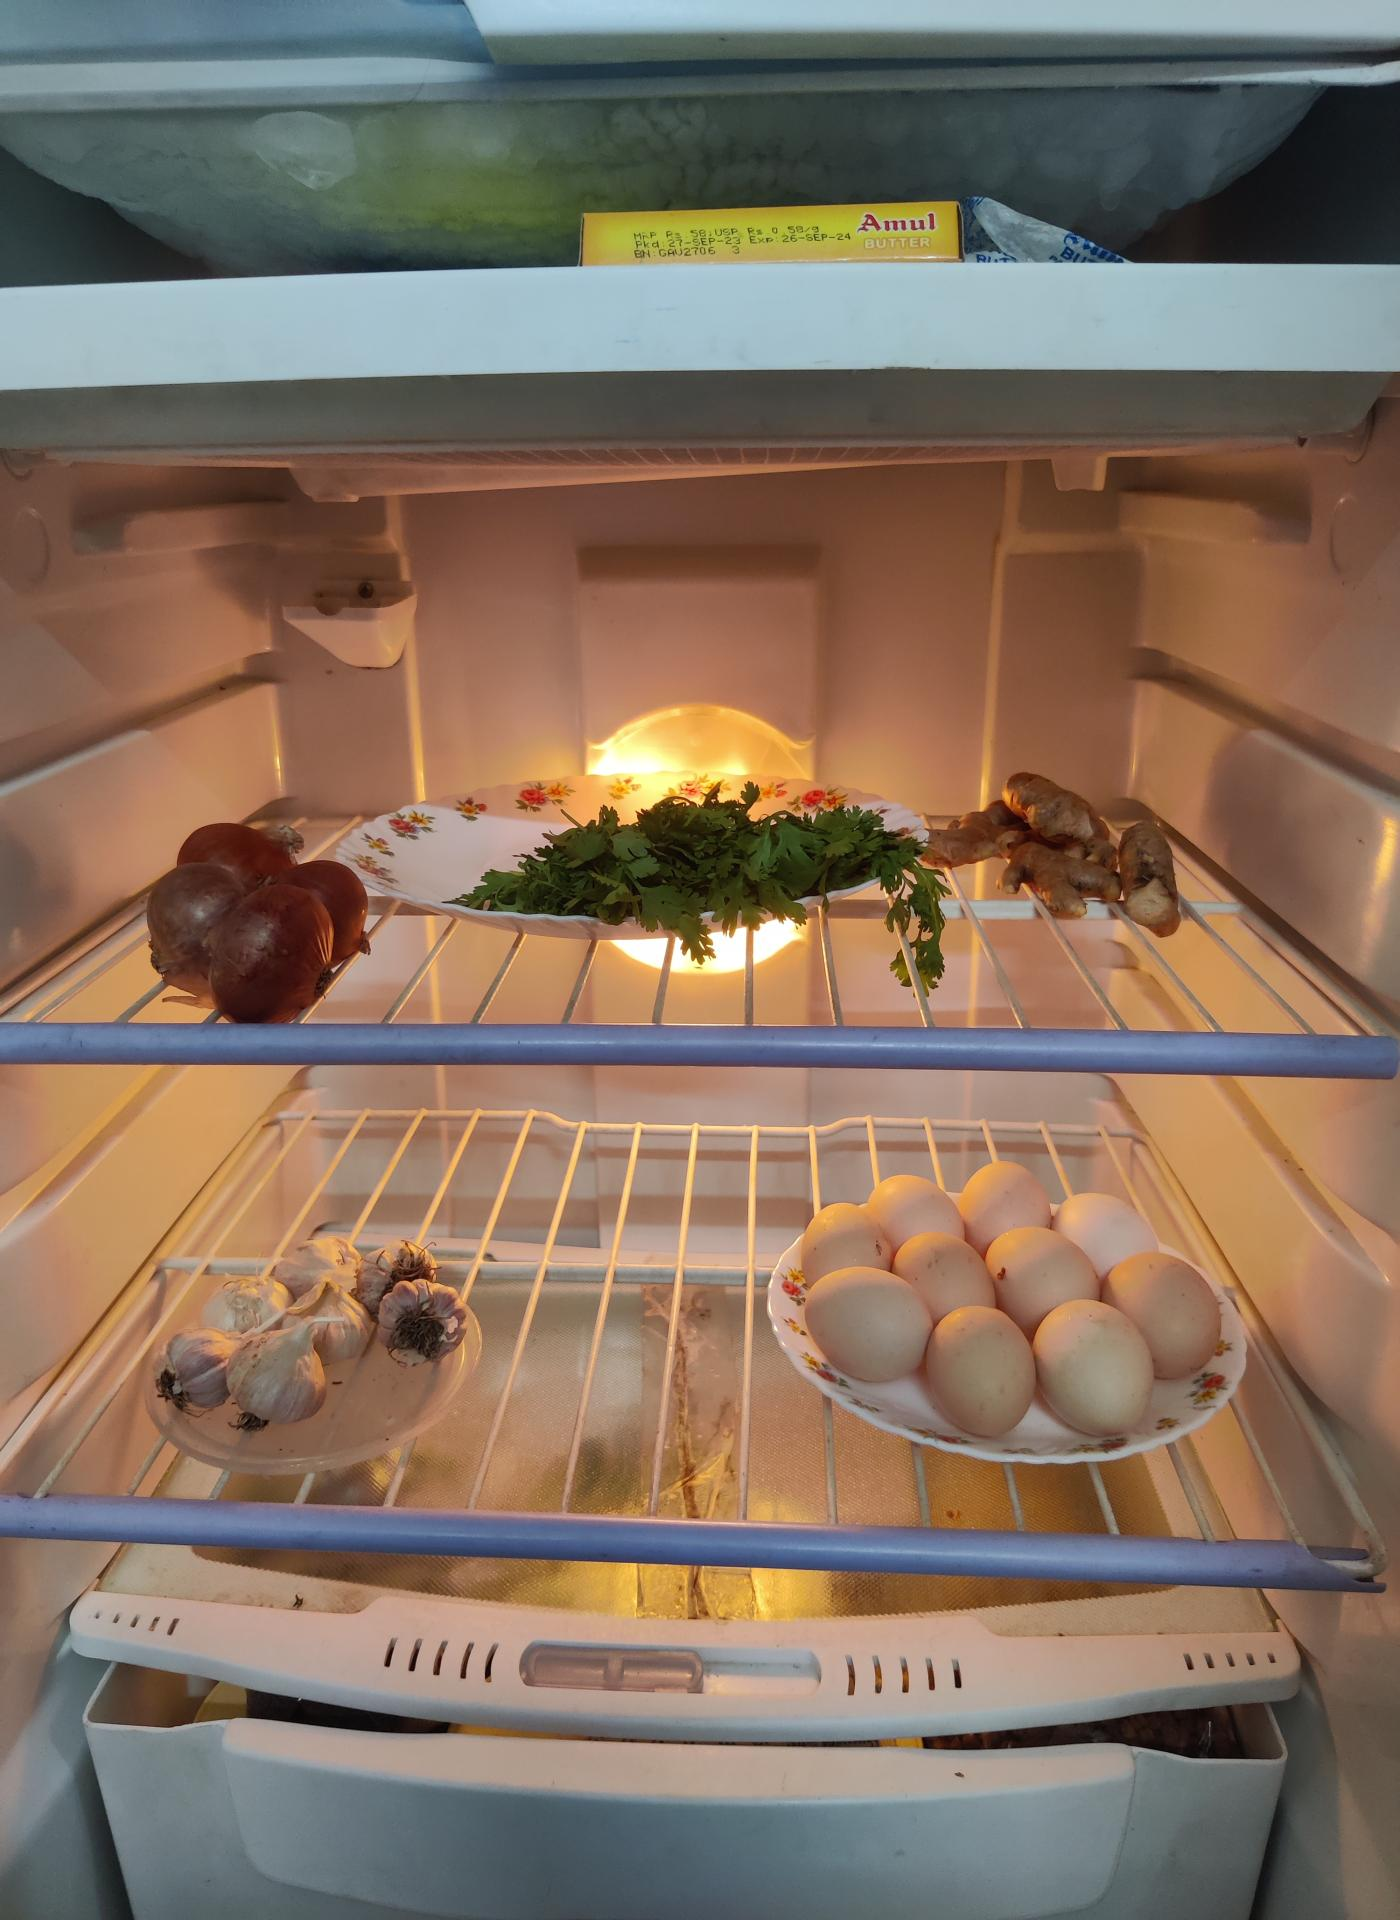coriander: (464, 780, 920, 976)
egg: (789, 1158, 1215, 1436)
garlic: (165, 1240, 471, 1444)
ginger: (938, 771, 1184, 918)
onion: (164, 812, 373, 1021)
